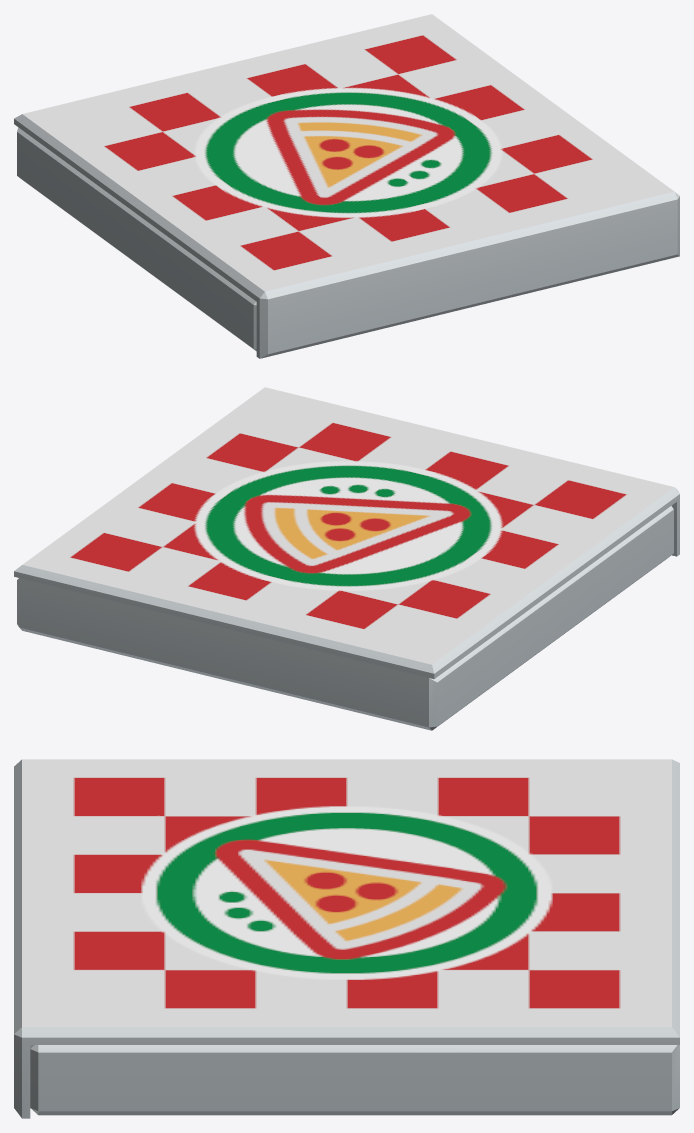
Rendered from pizzabox_closed.obj.
The picture shows the model from 3 angles, top to bottom: view 1: azimuth 30°, elevation 25°; view 2: azimuth 150°, elevation 25°; view 3: azimuth 270°, elevation 25°; orthographic projection. The views are drawn at different scales.
Visible parts, largest first — view 1: pizzabox_closed_Cube.152; view 2: pizzabox_closed_Cube.152; view 3: pizzabox_closed_Cube.152.
Boxes of the visible parts, <box> form: pizzabox_closed_Cube.152: <box>14,14,679,358</box>; pizzabox_closed_Cube.152: <box>14,387,679,730</box>; pizzabox_closed_Cube.152: <box>14,759,679,1118</box>.
Size of the model in its own units: 2 by 0.3 by 2.05.
1 material, 1 textured.
